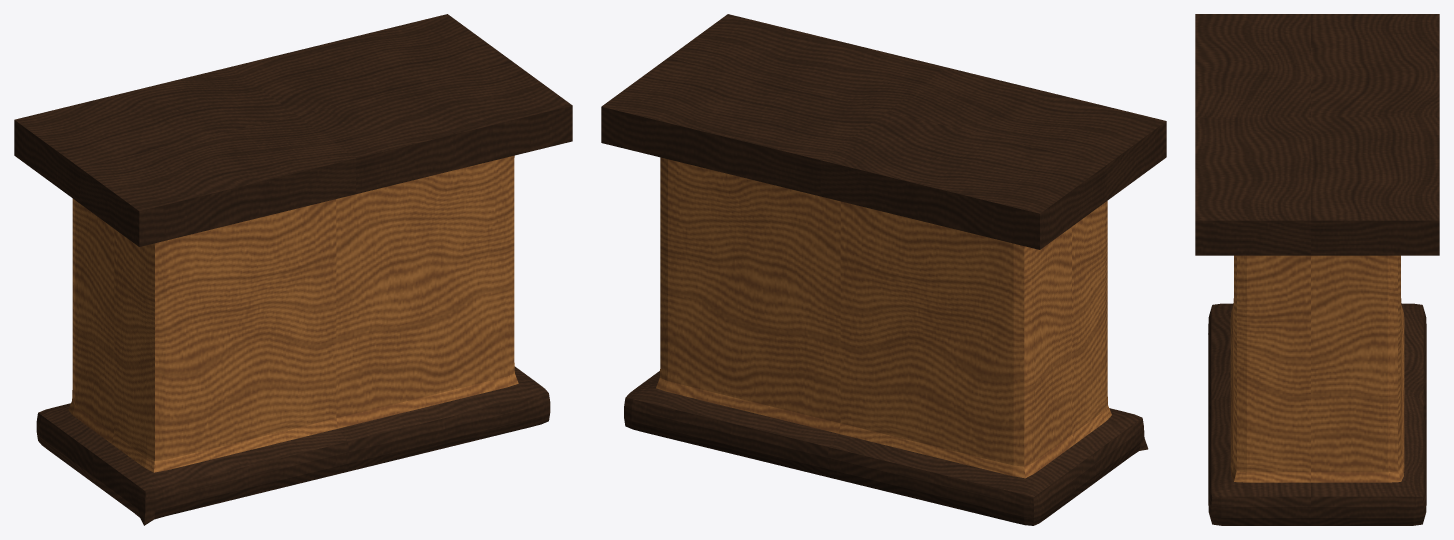
The model's file is furn_altar.glb.
The picture shows the model from 3 angles, left to right: view 1: azimuth 30°, elevation 25°; view 2: azimuth 150°, elevation 25°; view 3: azimuth 270°, elevation 25°; orthographic projection. The views are drawn at different scales.
Visible parts, largest first — view 1: town_furn_altar; view 2: town_furn_altar; view 3: town_furn_altar.
Part boxes in pixels (x1,y1,x2,y2): town_furn_altar: [14, 14, 572, 525]; town_furn_altar: [601, 14, 1166, 525]; town_furn_altar: [1195, 14, 1439, 525].
Size of the model in its own units: 1.19 by 0.8438 by 0.5938.
1 material, 1 textured.
